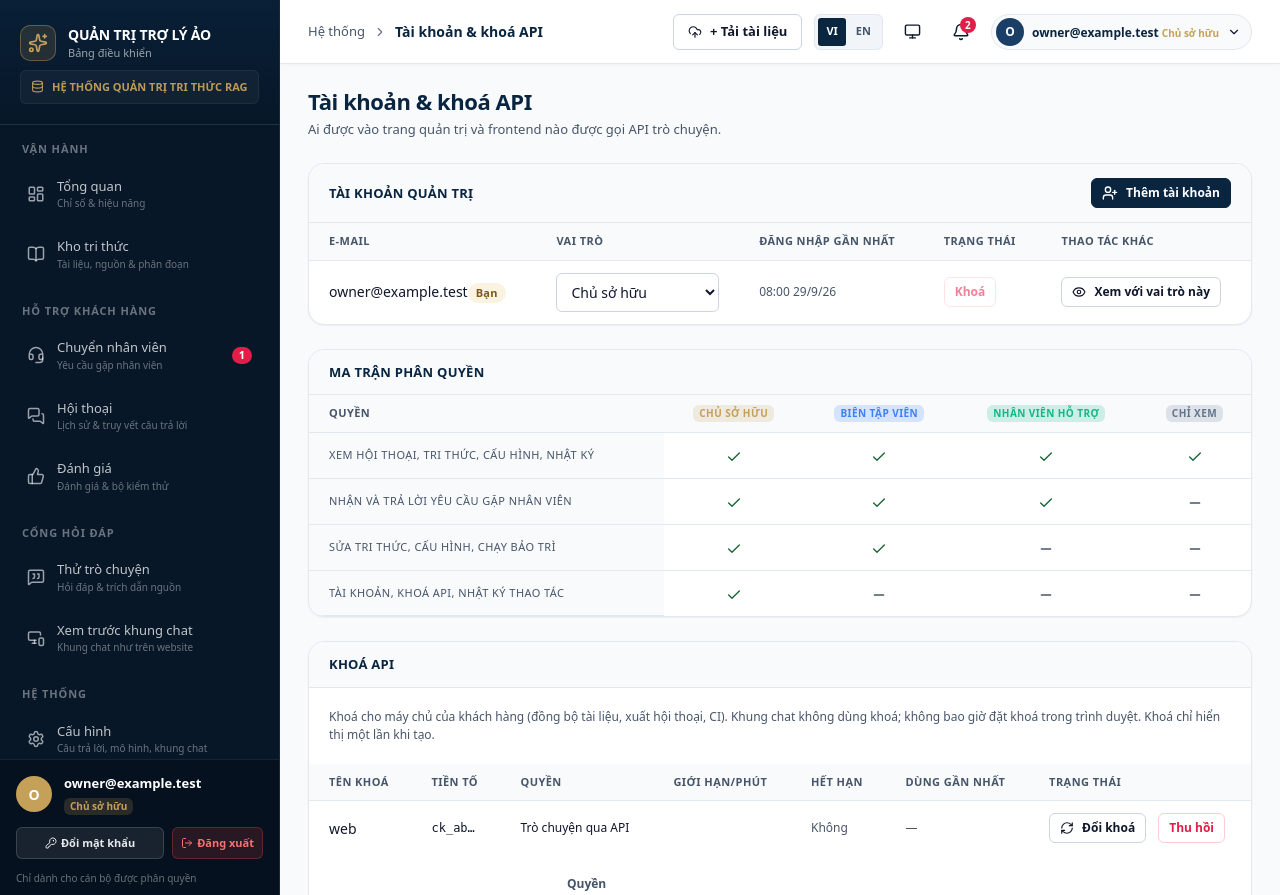
it: access: view as › previews a role's permissions read-only
What coordinates should you click on to do the following:
click the button "Xem với vai trò này"
I would click on:
 (1141, 292)
Its box is [1061,277,1221,307].
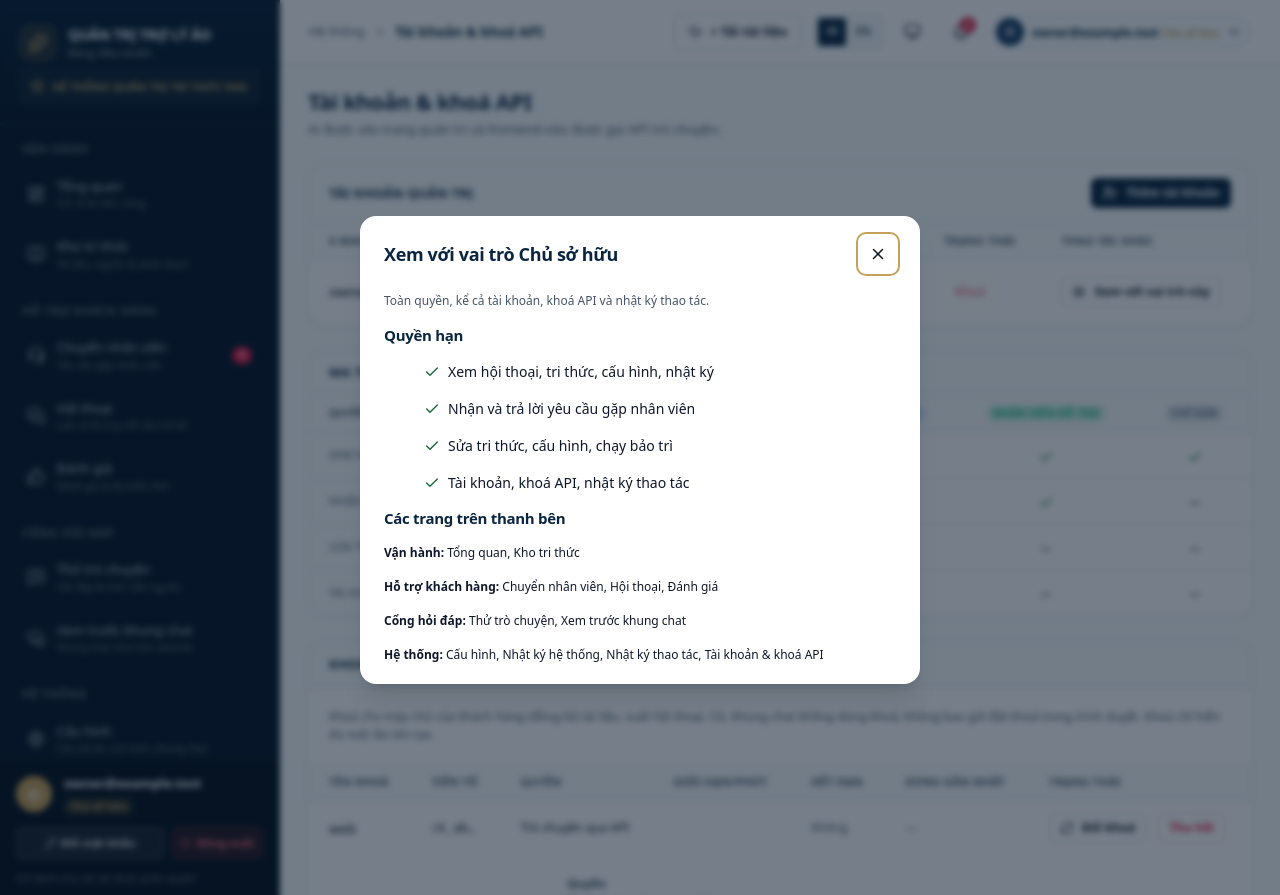
Result: the heading "Quyền hạn" is shown at [384,325,463,345]
Result: the heading "Các trang trên thanh bên" is shown at [384,508,565,528]
